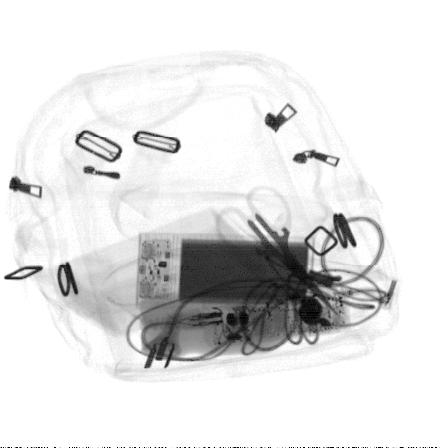Powerbank: (134, 230, 315, 310)
Scissors: (214, 183, 347, 322)
